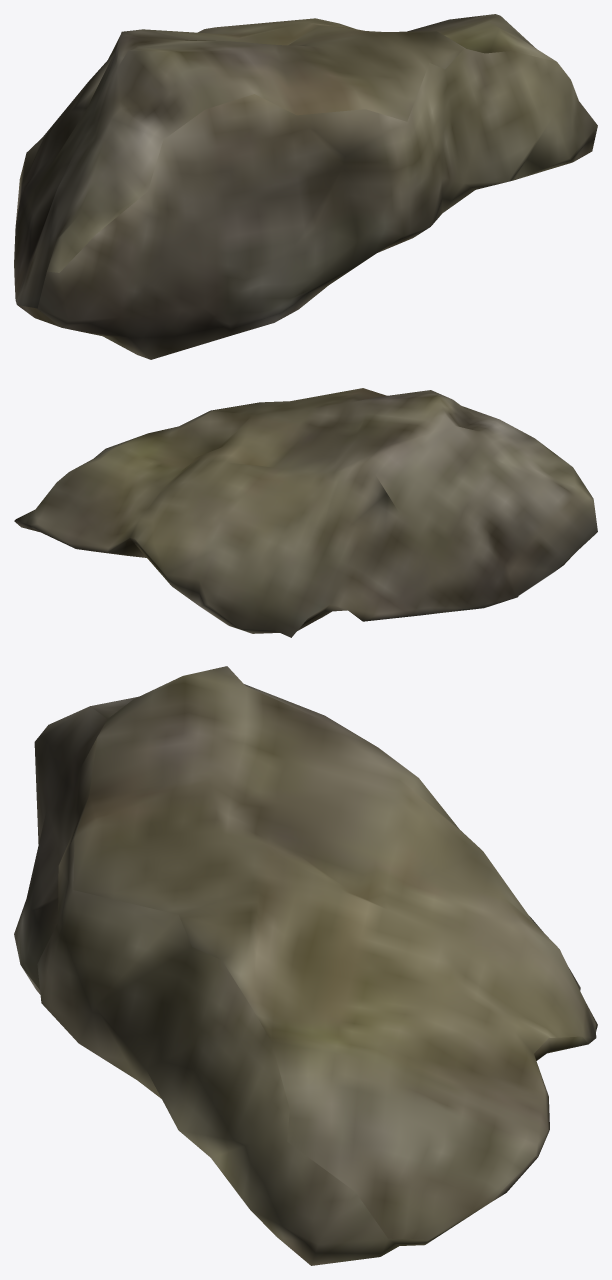
3 renders of one model, top to bottom at view 1: azimuth 30°, elevation 25°; view 2: azimuth 150°, elevation 25°; view 3: azimuth 270°, elevation 25°, orthographic. The views are drawn at different scales.
Visible parts, largest first — view 1: rock_moss_set_02__c_lod2; view 2: rock_moss_set_02__c_lod2; view 3: rock_moss_set_02__c_lod2.
Part boxes in pixels (bbox=[...]): rock_moss_set_02__c_lod2: bbox=[14, 14, 597, 359]; rock_moss_set_02__c_lod2: bbox=[14, 388, 597, 637]; rock_moss_set_02__c_lod2: bbox=[14, 666, 597, 1265].
Size of the model in its own units: 1.62 by 0.5844 by 1.
1 material, 1 textured.
